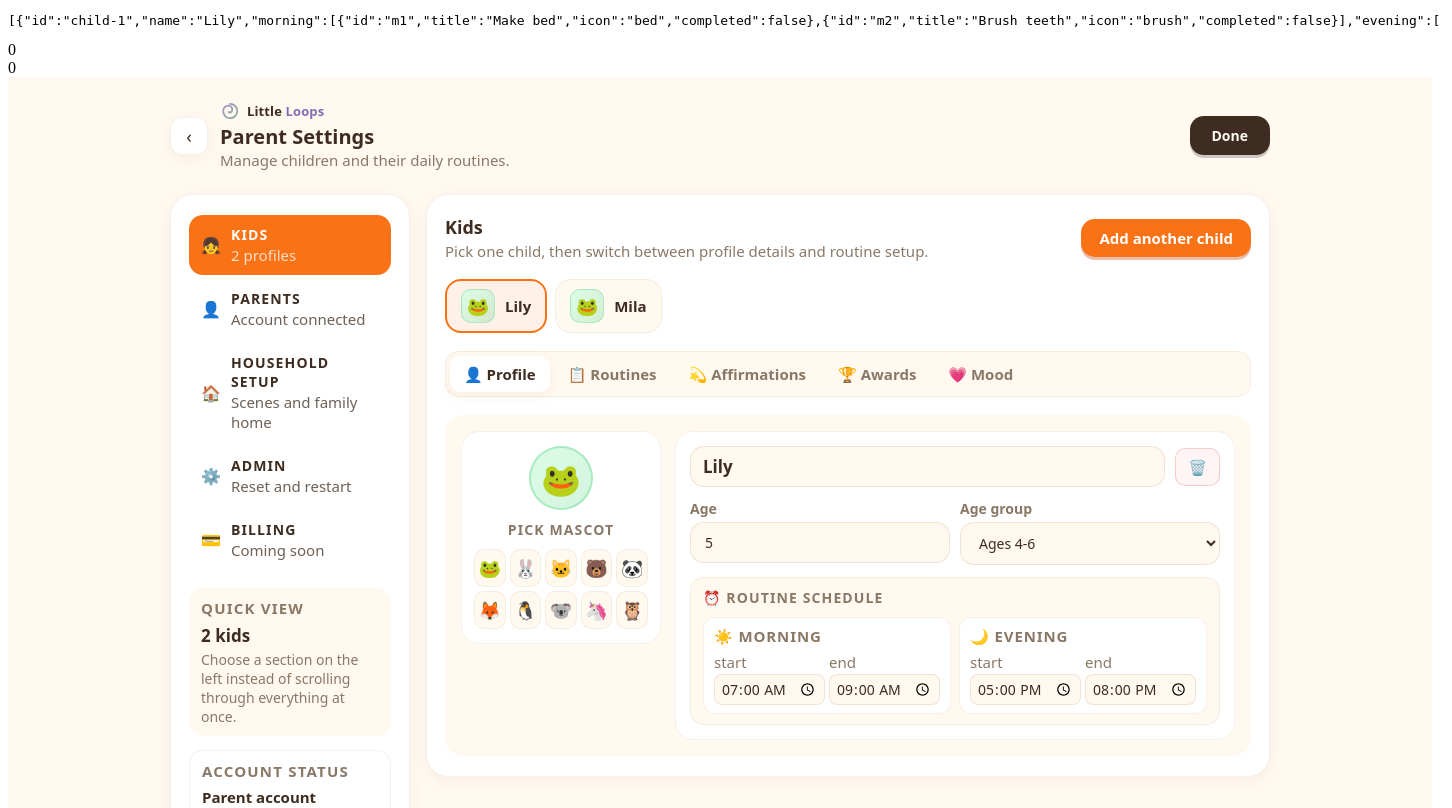
Test: ParentSettings › warns signed-in parents that reset deletes the cloud household too
The width and height of the screenshot is (1452, 808).
Click the button "⚙️ Admin Reset and restart": (290, 476) [189,446,391,506]
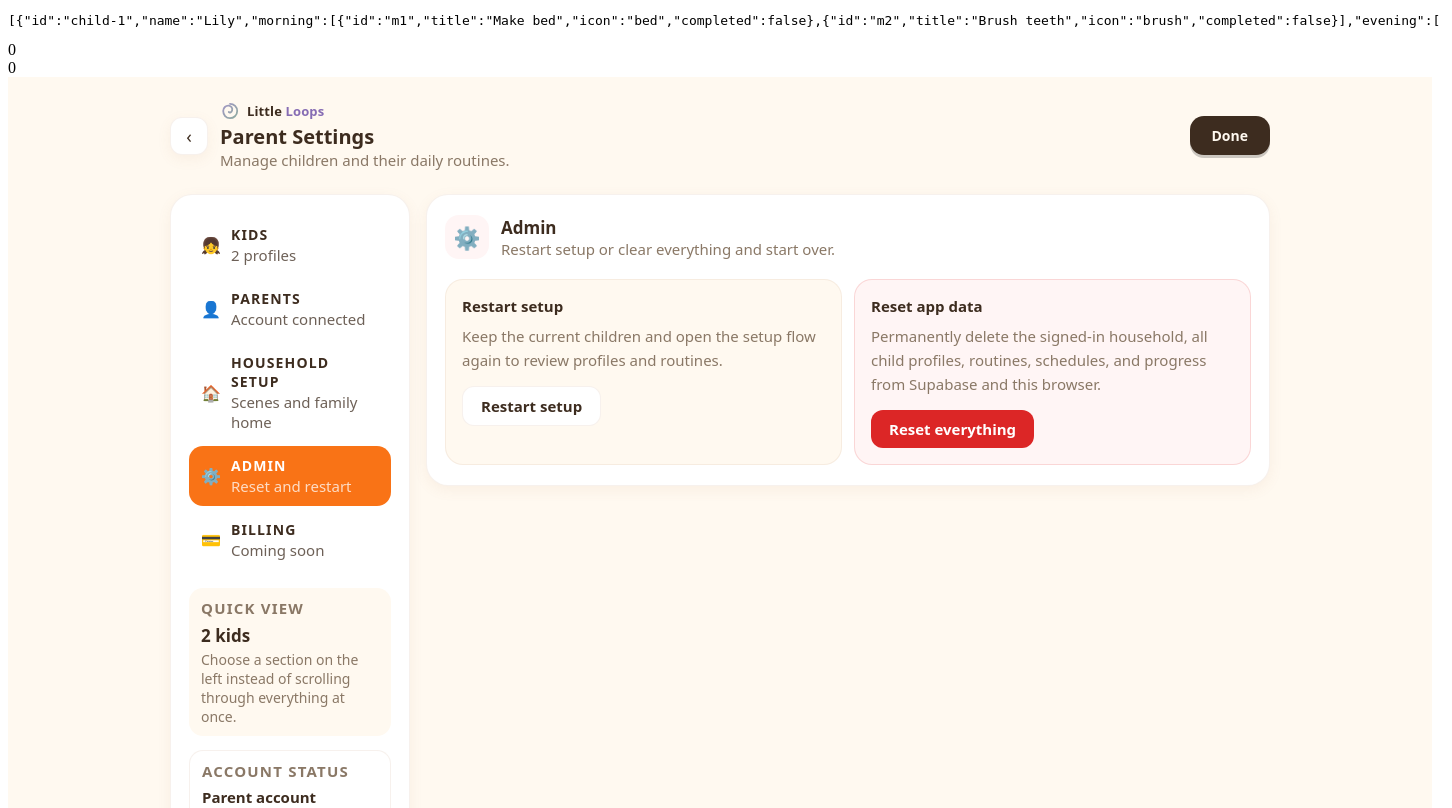
Now the text "permanently delete the signed-in household, all child profiles, routines, schedules, and progress" is shown, box [871,326,1208,394]
Click the button "Reset everything": (953, 429) [871,410,1034,448]
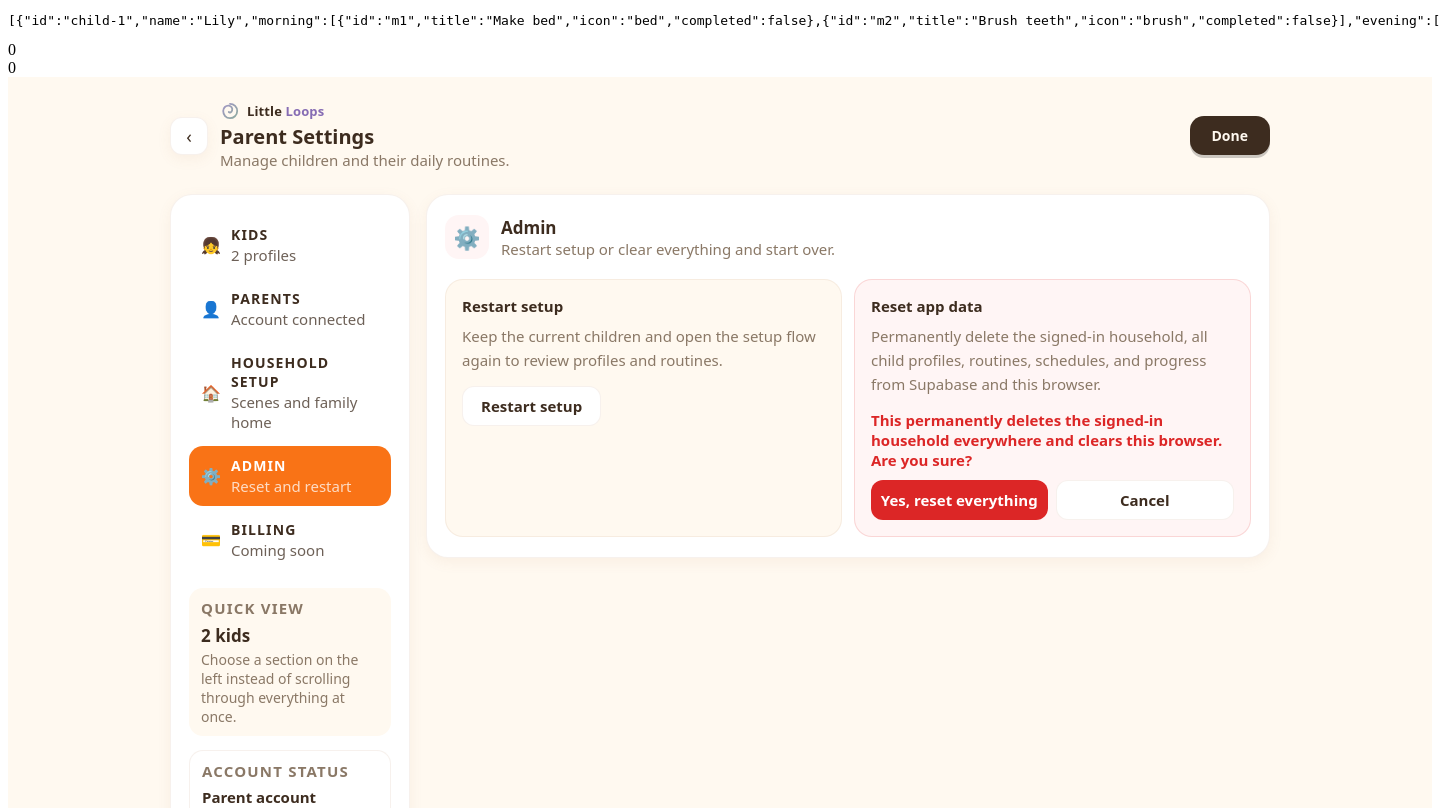
Now the text "this permanently deletes the signed-in household everywhere and clears this browser" is shown, box [871,410,1222,470]
